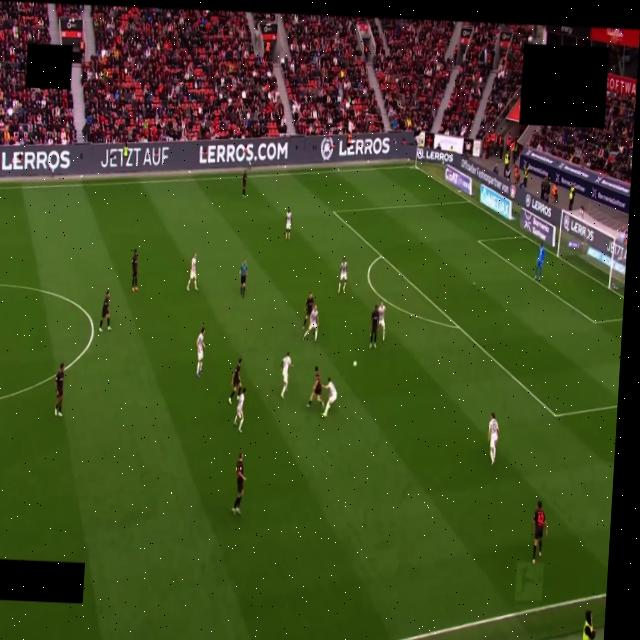ball: (353, 361, 357, 367)
player: (532, 501, 547, 564), (232, 453, 244, 514), (307, 367, 323, 407), (233, 388, 246, 433), (322, 379, 337, 417), (303, 305, 318, 342), (229, 358, 241, 403), (488, 413, 498, 464), (99, 292, 111, 332), (55, 364, 64, 417), (281, 352, 291, 398), (186, 253, 198, 290), (302, 293, 314, 328), (196, 327, 204, 377), (535, 245, 546, 281), (369, 305, 378, 348), (378, 302, 386, 343), (338, 258, 347, 293), (132, 250, 138, 292), (285, 208, 291, 240), (242, 170, 246, 197)
referee: (239, 259, 248, 298)
